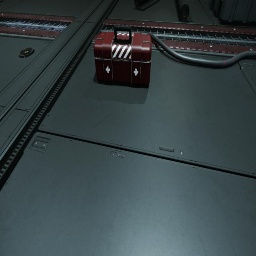FirstAidBox ,: (94, 25, 152, 86)
